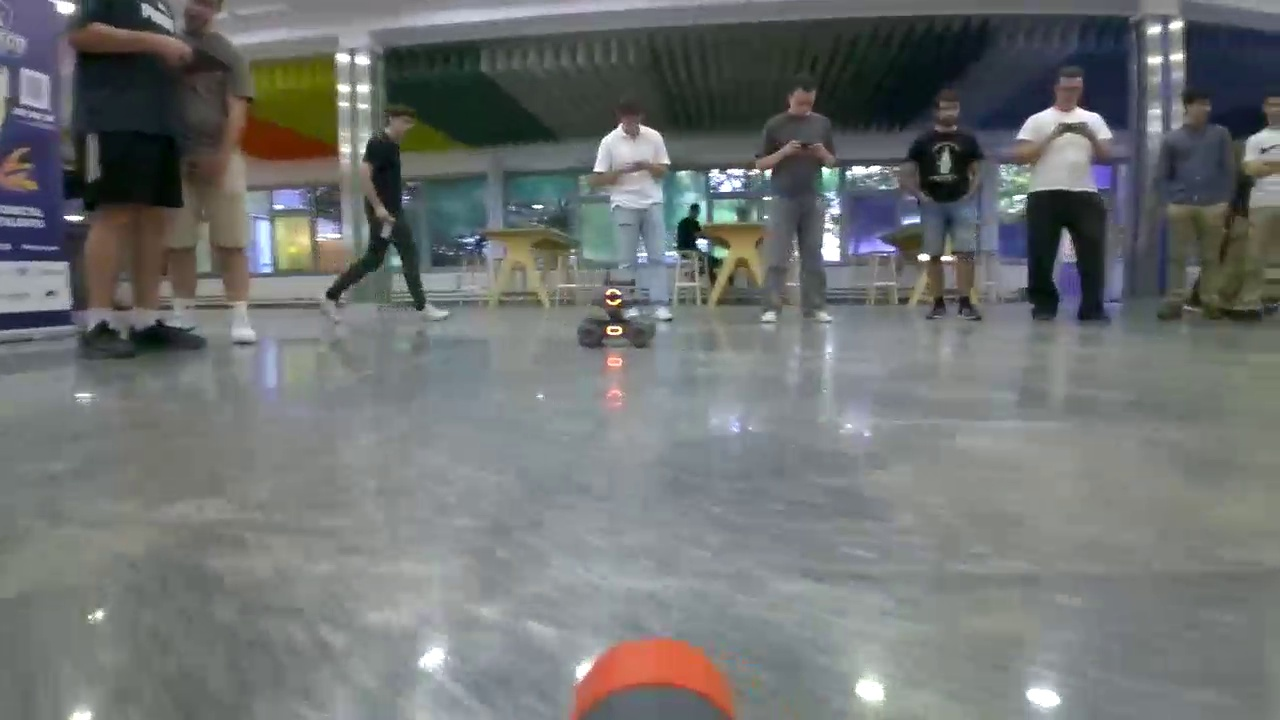robot: (578, 285, 655, 349)
